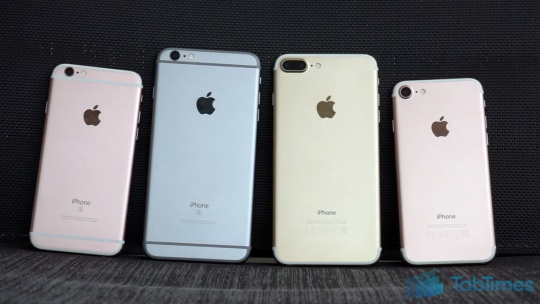apple: (312, 93, 360, 128), (425, 107, 462, 145), (189, 86, 224, 126), (74, 104, 111, 127)
